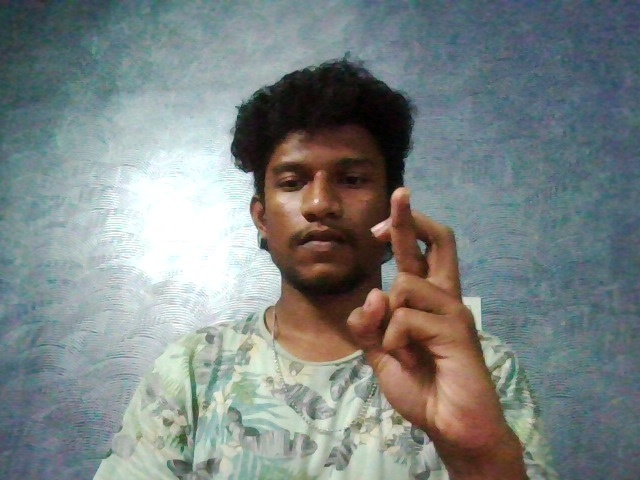hope: (342, 180, 539, 464)
